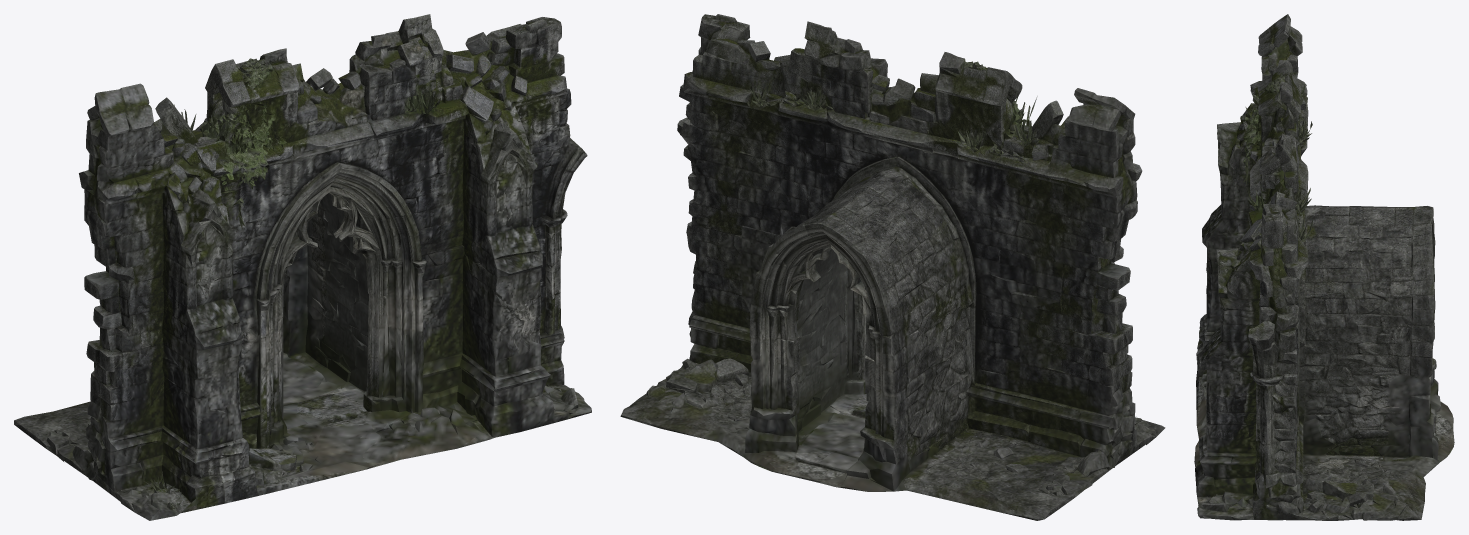
Rendered from wall_arch.glb.
The picture shows the model from 3 angles, left to right: view 1: azimuth 30°, elevation 25°; view 2: azimuth 150°, elevation 25°; view 3: azimuth 270°, elevation 25°; orthographic projection. The views are drawn at different scales.
Visible parts, largest first — view 1: Mesh_0; view 2: Mesh_0; view 3: Mesh_0.
Boxes of the visible parts, box(x1,y1,x2,y2) form: Mesh_0: box(14, 14, 591, 520); Mesh_0: box(620, 14, 1165, 520); Mesh_0: box(1194, 14, 1454, 520).
Size of the model in its own units: 1.9 by 1.48 by 1.07.
1 material, 1 textured.
